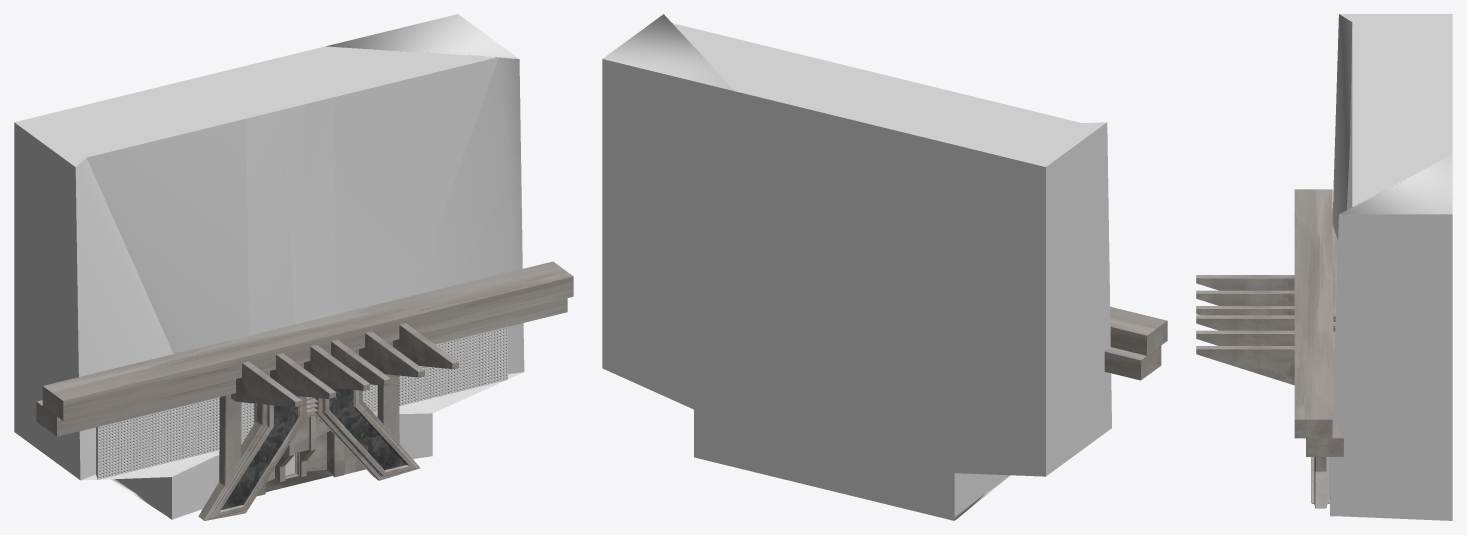
Rendered from MESH_ExitDoorWall.fbx.
3 views of the same model, side by side, from view 1: azimuth 30°, elevation 25°; view 2: azimuth 150°, elevation 25°; view 3: azimuth 270°, elevation 25° (orthographic). The views are drawn at different scales.
Visible parts, largest first — view 1: Cube__6_, Cube_067, Cube_047, Cube.017, Cube.011, Cube_066, Cube, Cube.002; view 2: Cube__6_, Cube_067, Cube_066; view 3: Cube__6_, Cube_067, Cube.011, Cube_066, Cube_047.
Part boxes in pixels (x1=…): Cube__6_: x1=14, y1=14, x2=524, y2=519; Cube_067: x1=42, y1=261, x2=573, y2=420; Cube_047: x1=198, y1=374, x2=420, y2=520; Cube.017: x1=96, y1=327, x2=507, y2=479; Cube.011: x1=231, y1=323, x2=458, y2=407; Cube_066: x1=36, y1=298, x2=567, y2=436; Cube: x1=275, y1=416, x2=315, y2=482; Cube.002: x1=254, y1=403, x2=344, y2=496; Cube__6_: x1=602, y1=14, x2=1111, y2=520; Cube_067: x1=1110, y1=307, x2=1167, y2=355; Cube_066: x1=1104, y1=346, x2=1161, y2=380; Cube__6_: x1=1330, y1=14, x2=1452, y2=520; Cube_067: x1=1294, y1=189, x2=1332, y2=438; Cube.011: x1=1196, y1=275, x2=1294, y2=385; Cube_066: x1=1306, y1=208, x2=1343, y2=456; Cube_047: x1=1311, y1=457, x2=1329, y2=508.
Bounding box in the file's own units: 5305 × 3737 × 2494.
